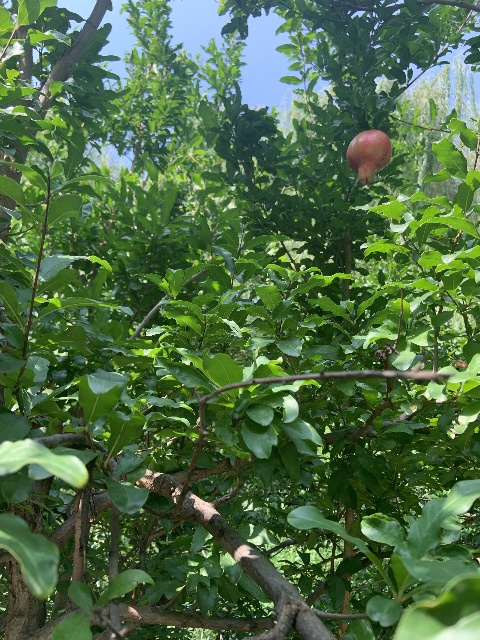ripe: (346, 129, 392, 186)
